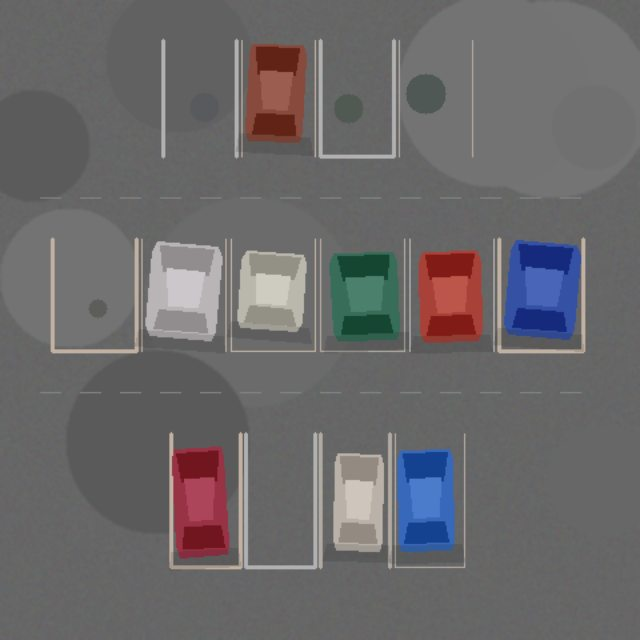space-empty: (52, 239, 136, 351), (245, 433, 315, 567), (163, 40, 236, 156), (320, 40, 393, 156), (399, 40, 472, 156)
space-occupied: (141, 239, 225, 351), (231, 239, 315, 351), (320, 239, 404, 351), (409, 239, 493, 351), (499, 239, 583, 351), (171, 433, 240, 567), (320, 433, 389, 567), (395, 433, 464, 567), (241, 40, 315, 156)
